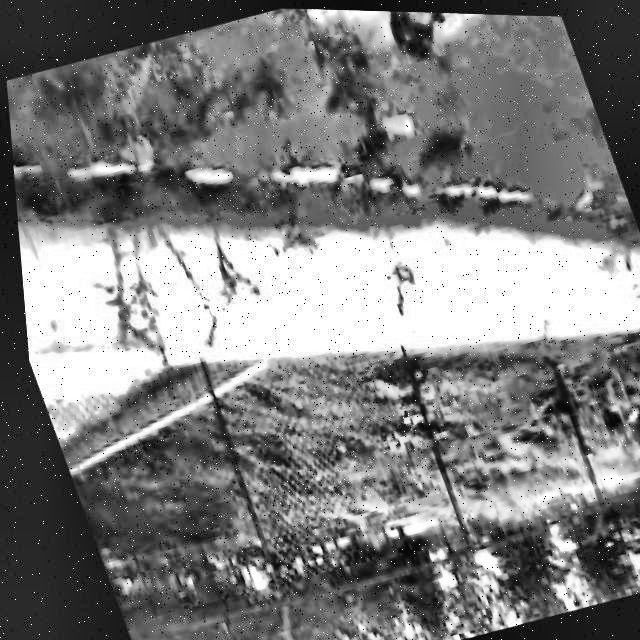Fire: (341, 8, 502, 86)
